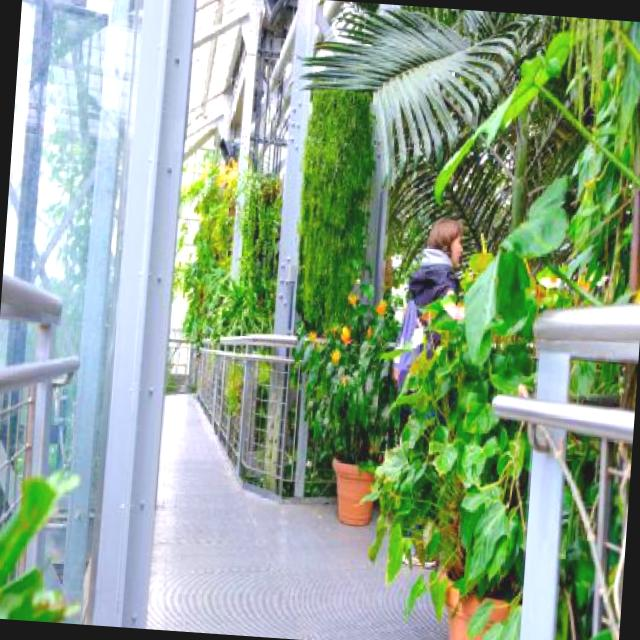Person: (388, 202, 474, 348)
